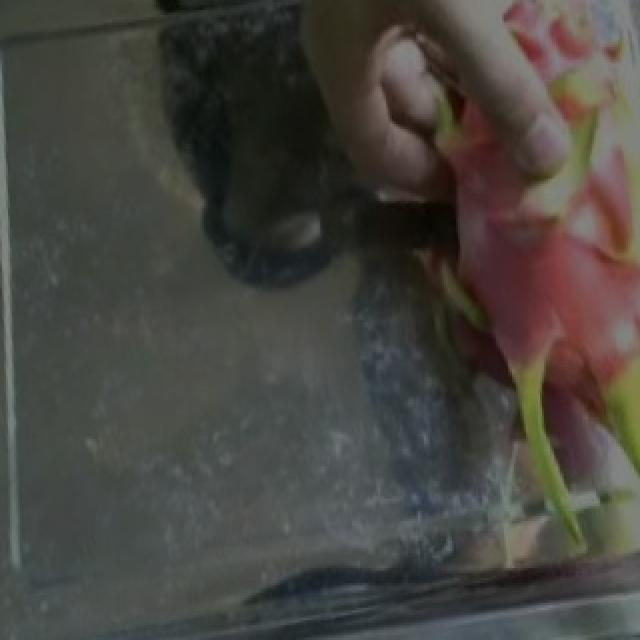fruit: (350, 159, 640, 573)
